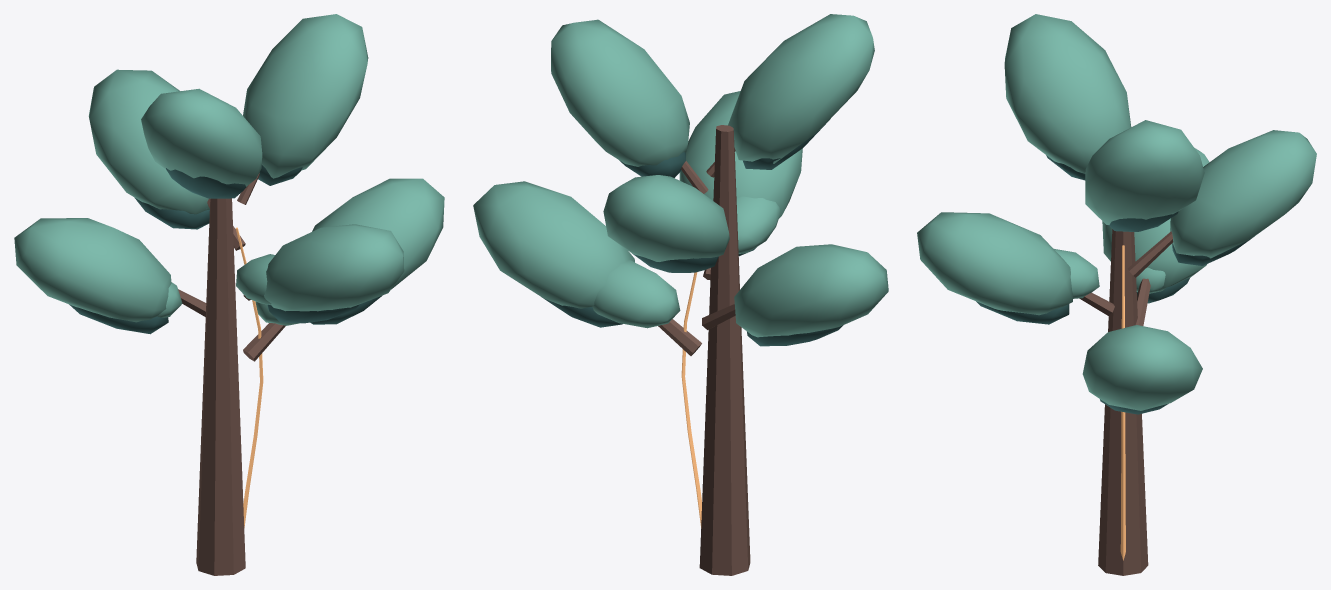
The model's file is glimmerwood_tree_copper.glb.
3 views of the same model, side by side, from view 1: azimuth 30°, elevation 25°; view 2: azimuth 150°, elevation 25°; view 3: azimuth 270°, elevation 25° (orthographic). The views are drawn at different scales.
Parts seen in each view (by area): view 1: glimmerwood_tree_copper; view 2: glimmerwood_tree_copper; view 3: glimmerwood_tree_copper.
Boxes of the visible parts, left/top/right/bottom form: glimmerwood_tree_copper: left=14, top=14, right=444, bottom=575; glimmerwood_tree_copper: left=473, top=14, right=888, bottom=575; glimmerwood_tree_copper: left=917, top=14, right=1316, bottom=575.
Size of the model in its own units: 4.34 by 5.4 by 3.82.
